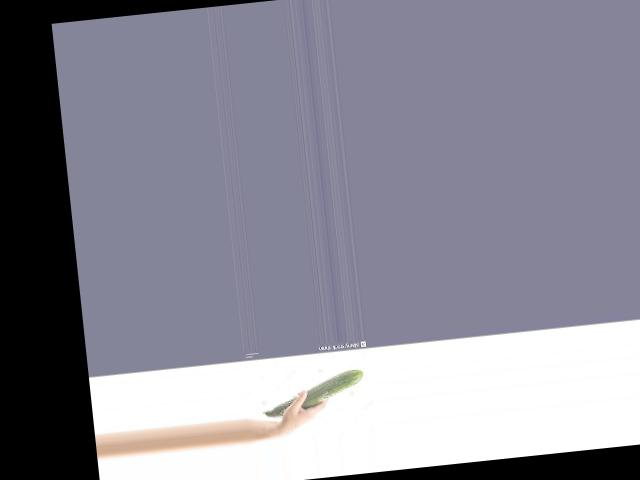cucumber: (258, 368, 366, 419)
